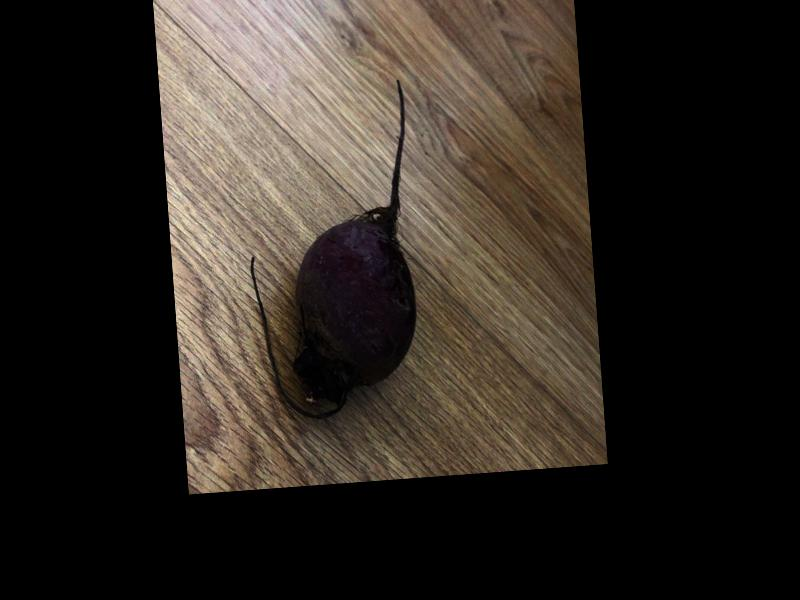Beet: (238, 79, 427, 423)
